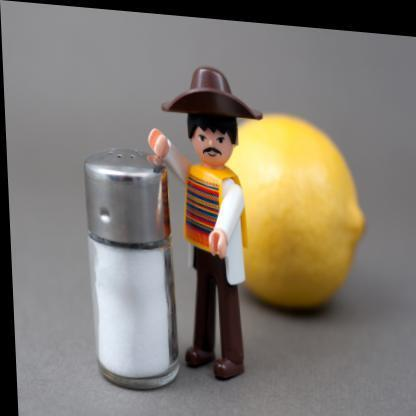lemon: (224, 114, 365, 309)
